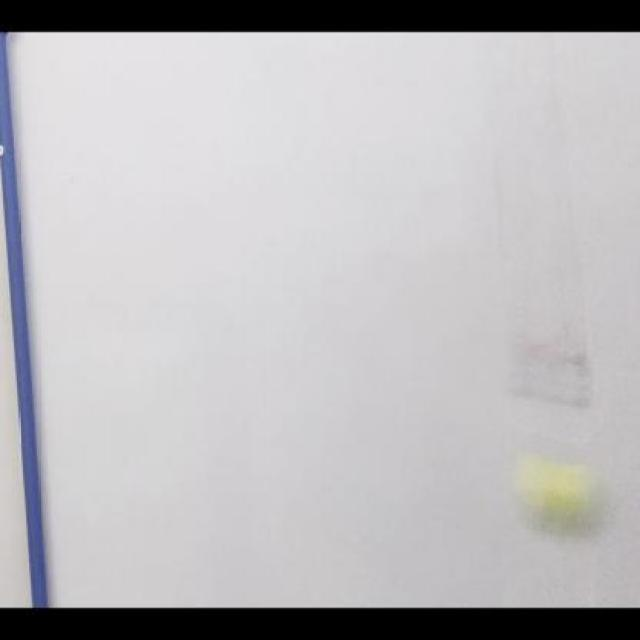baseball: (554, 452, 561, 538)
